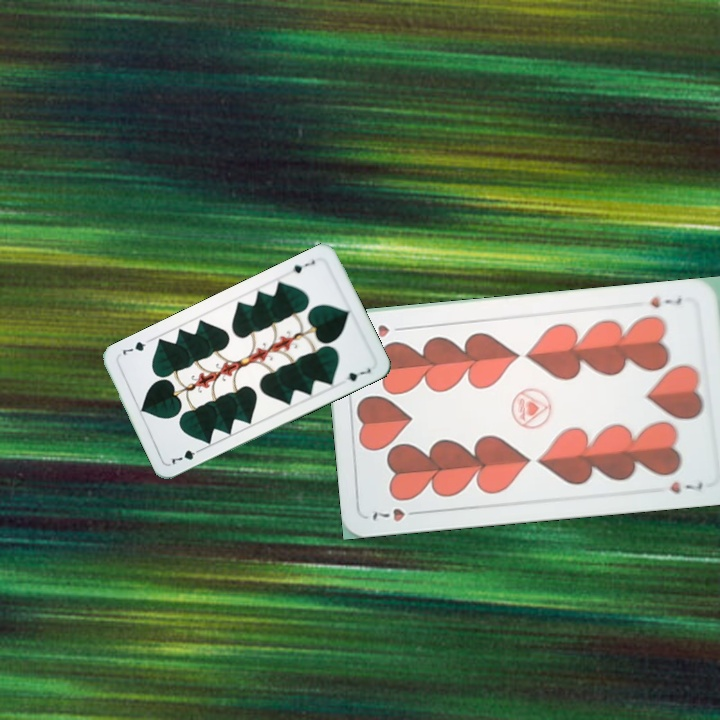G7: (166, 444, 205, 467), (288, 256, 317, 276)
H7: (367, 504, 425, 524), (646, 293, 684, 311)
